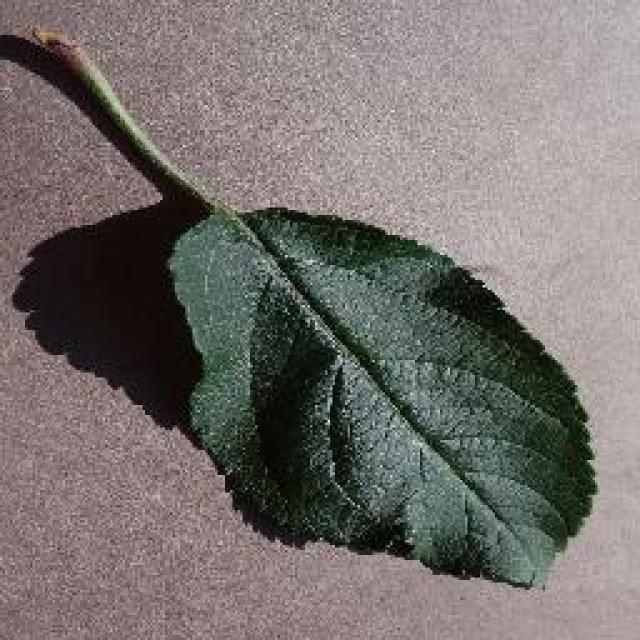apple healthy: (0, 22, 600, 590)
